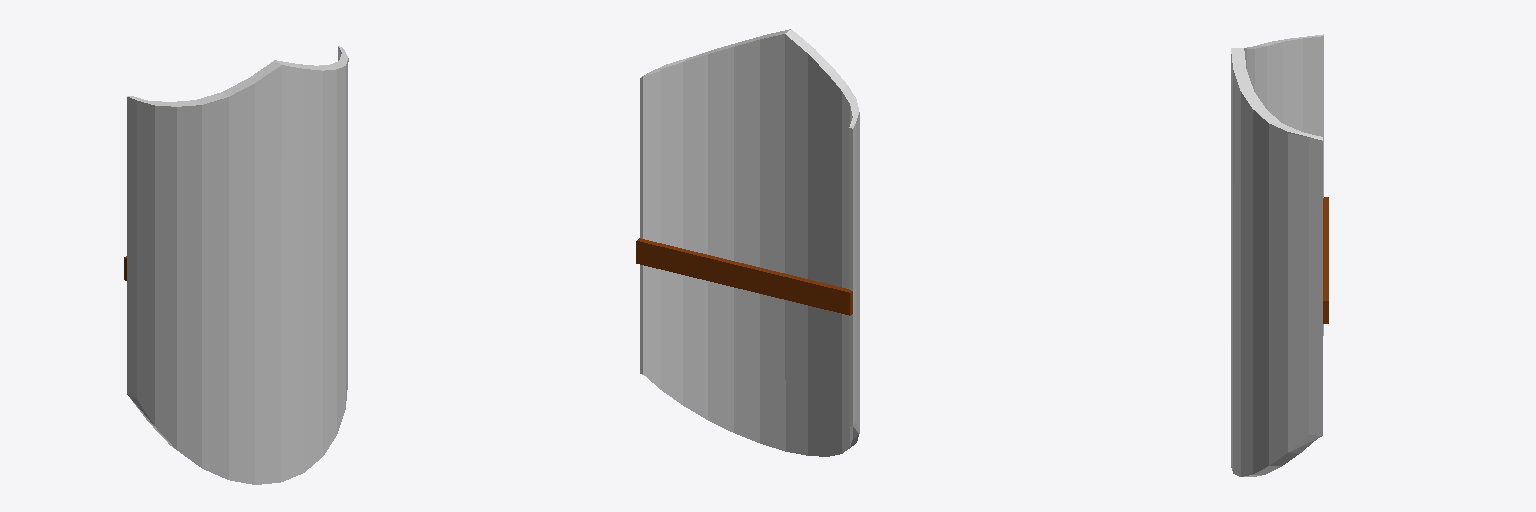
The model's file is shield.obj.
The picture shows the model from 3 angles: view 1: azimuth 30°, elevation 25°; view 2: azimuth 150°, elevation 25°; view 3: azimuth 270°, elevation 25°; orthographic projection.
Parts seen in each view (by area): view 1: Mesh1 Model; view 2: Mesh1 Model; view 3: Mesh1 Model.
Boxes of the visible parts, x1,y1,x2,y2 form: Mesh1 Model: [124, 46, 348, 484]; Mesh1 Model: [636, 29, 859, 456]; Mesh1 Model: [1231, 34, 1328, 476].
Bounding box in the file's own units: 0.4529 × 0.8449 × 0.1806.